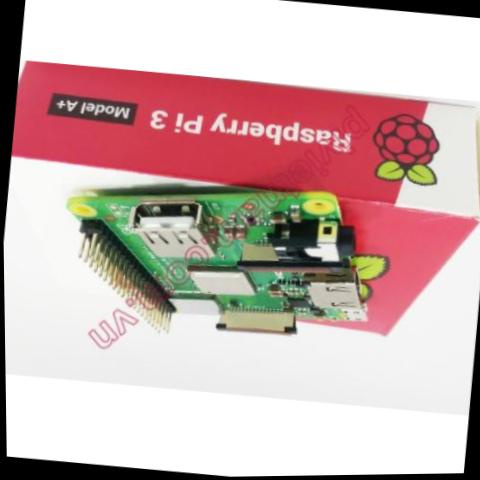Raspberry-Pi-3-Model-A-: (46, 159, 383, 360)
